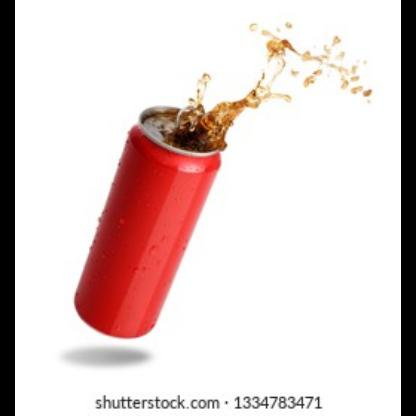Lid_Open: (151, 99, 207, 159)
Tin_Can: (69, 94, 228, 344)
